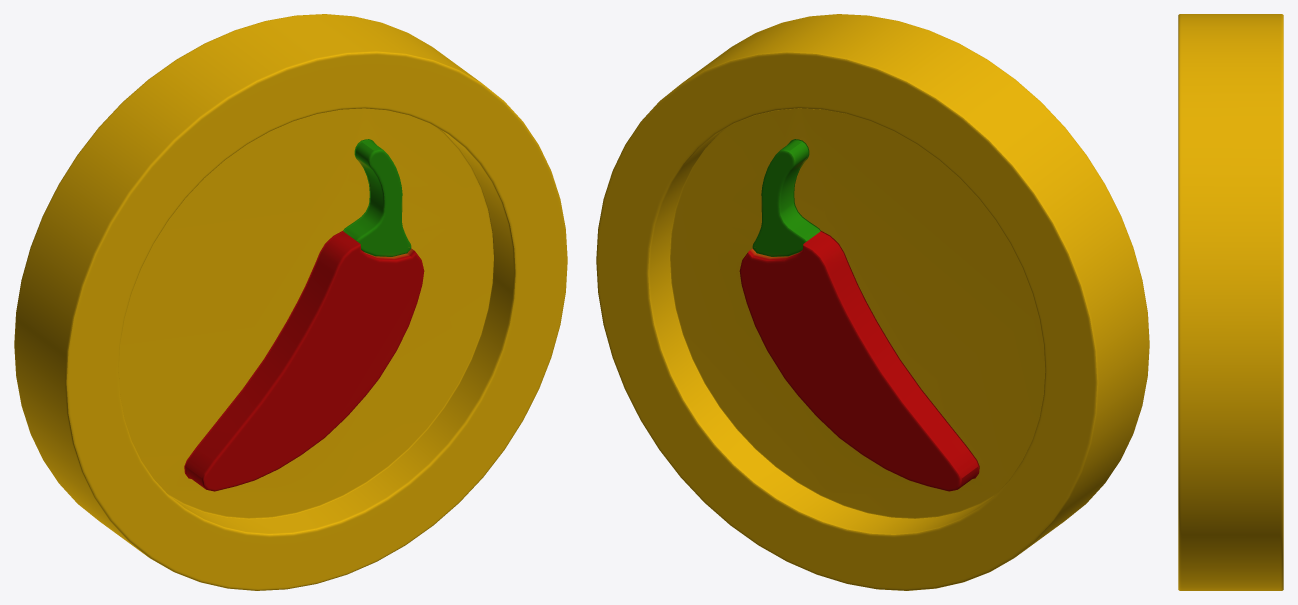
Rendered from token.glb.
The picture shows the model from 3 angles, left to right: view 1: azimuth 30°, elevation 25°; view 2: azimuth 150°, elevation 25°; view 3: azimuth 270°, elevation 25°; orthographic projection.
Parts seen in each view (by area): view 1: Cylinder; view 2: Cylinder; view 3: Cylinder.
Boxes of the visible parts, x1,y1,x2,y2 form: Cylinder: [14, 14, 567, 590]; Cylinder: [596, 14, 1149, 590]; Cylinder: [1178, 14, 1283, 590].
Bounding box in the file's own units: 1.08 × 1.08 × 0.1983.
